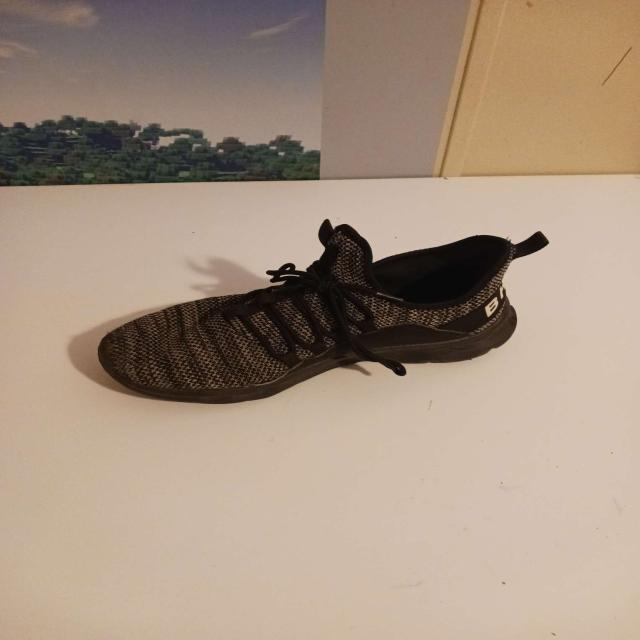shoes: (93, 215, 549, 407)
